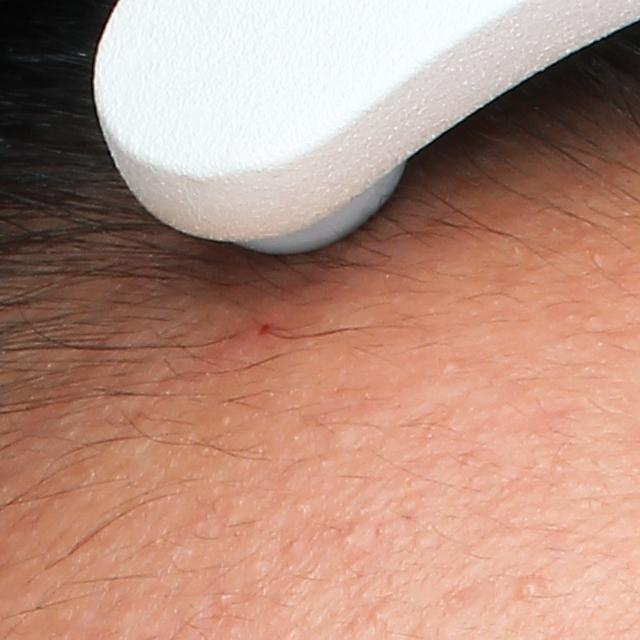comedo: (365, 601, 389, 629), (412, 530, 435, 551), (339, 531, 360, 552), (516, 579, 538, 597), (215, 588, 232, 606), (441, 361, 458, 376)
